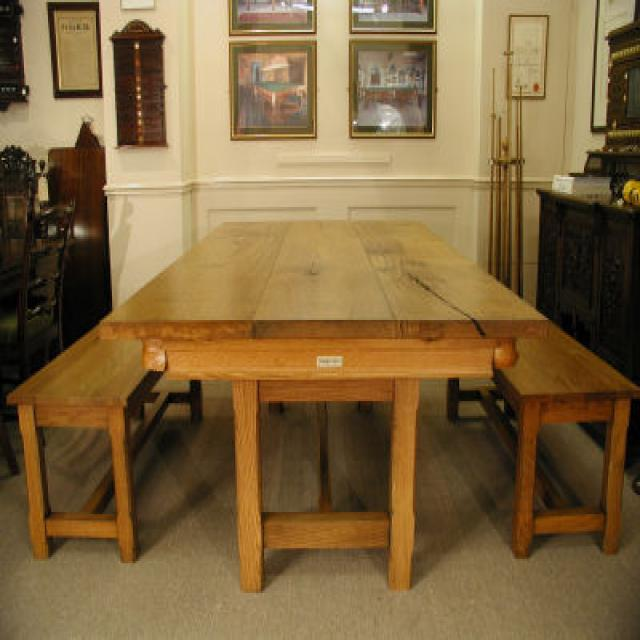table: (99, 218, 548, 592)
